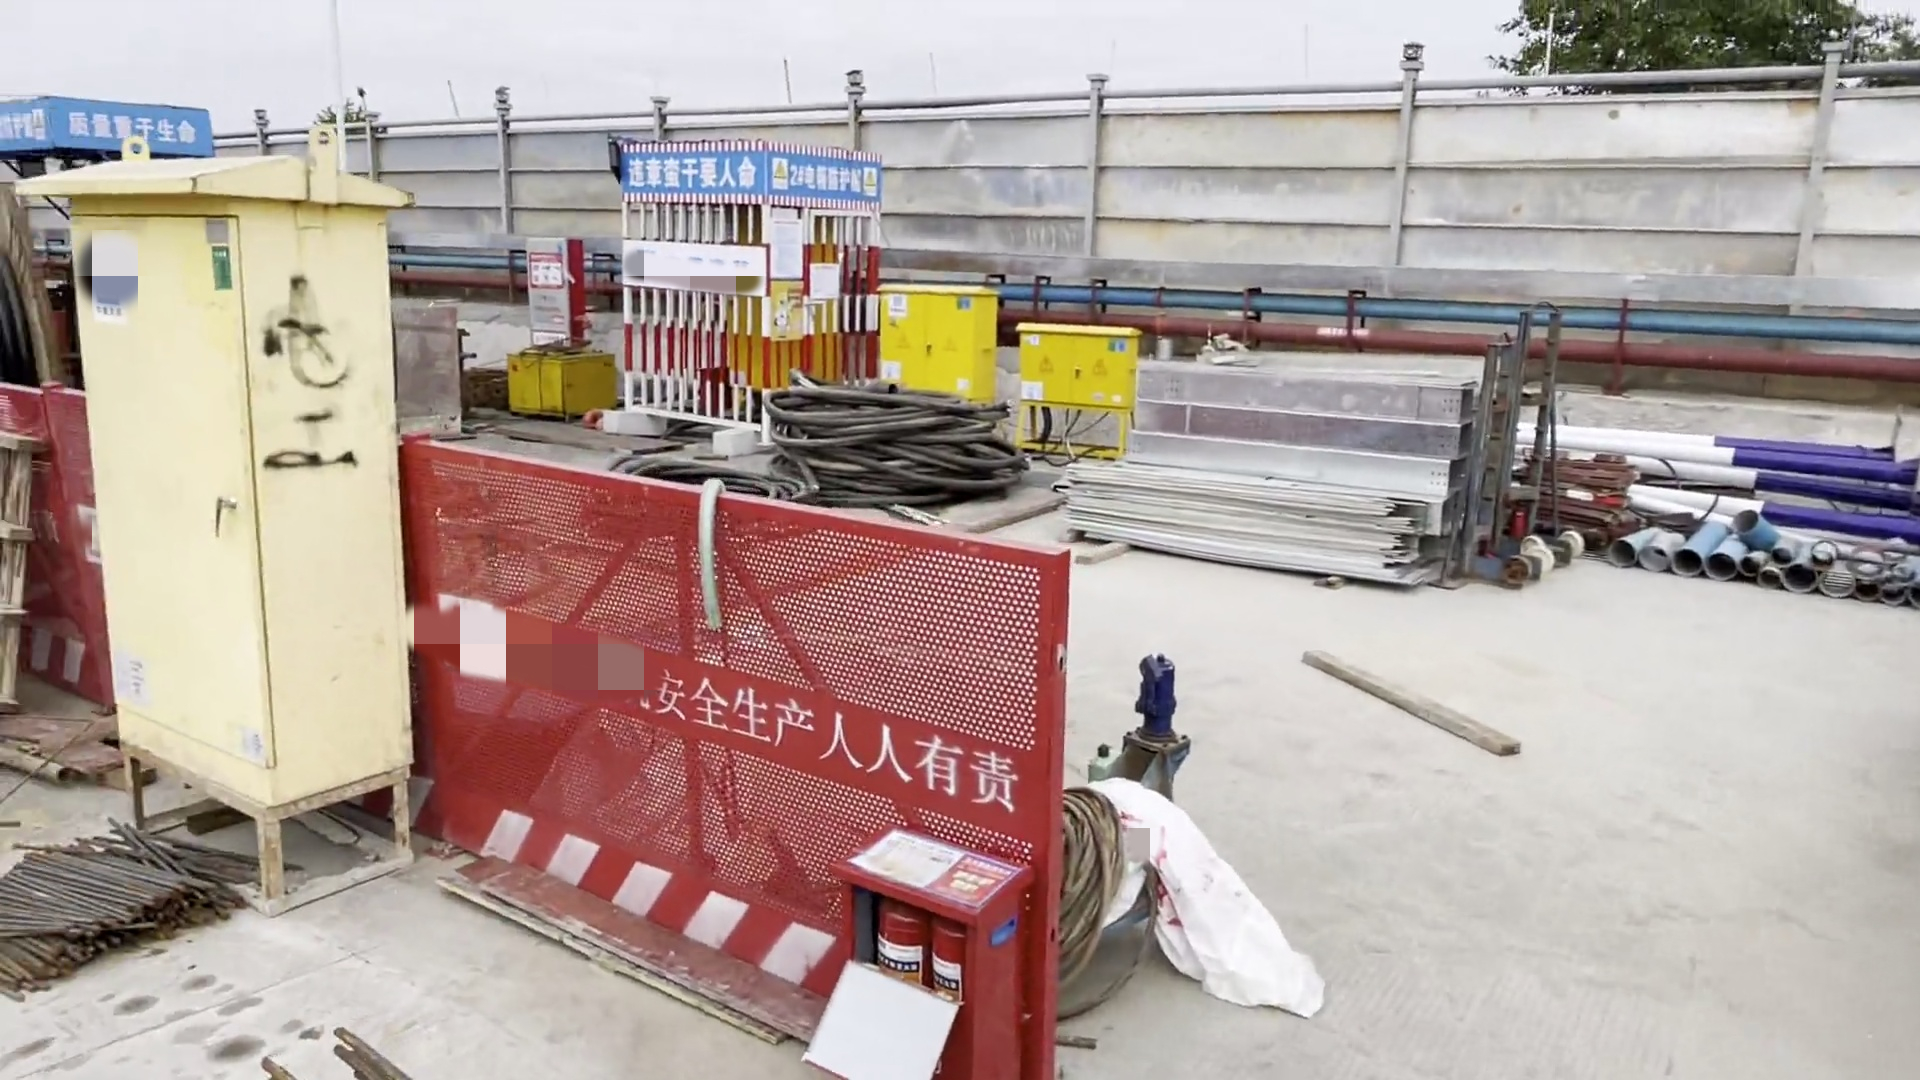ebox: (38, 146, 404, 899), (1021, 319, 1134, 458), (732, 227, 824, 389), (880, 291, 992, 404)
fence: (392, 436, 1062, 1079), (1, 385, 112, 713)
rebar: (5, 848, 211, 990)
slogan: (7, 102, 211, 154), (629, 149, 766, 196), (858, 166, 878, 207), (771, 160, 789, 195)
